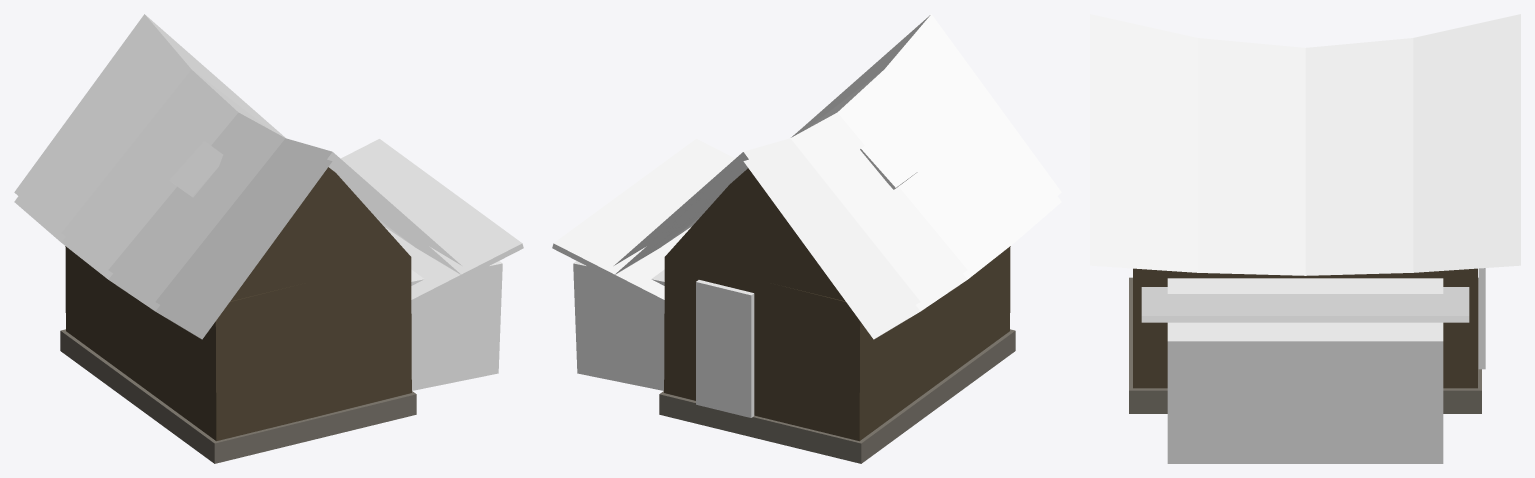
Rendered from house_hovel_b_lod1.glb.
3 views of the same model, side by side, from view 1: azimuth 30°, elevation 25°; view 2: azimuth 150°, elevation 25°; view 3: azimuth 270°, elevation 25° (orthographic). The views are drawn at different scales.
Visible parts, largest first — view 1: house_hovel_b_lod1; view 2: house_hovel_b_lod1; view 3: house_hovel_b_lod1.
Boxes of the visible parts, left/top/right/bottom form: house_hovel_b_lod1: left=14, top=14, right=523, bottom=463; house_hovel_b_lod1: left=552, top=14, right=1061, bottom=463; house_hovel_b_lod1: left=1090, top=14, right=1520, bottom=463.
Bounding box in the file's own units: 5.28 × 4.4 × 5.
